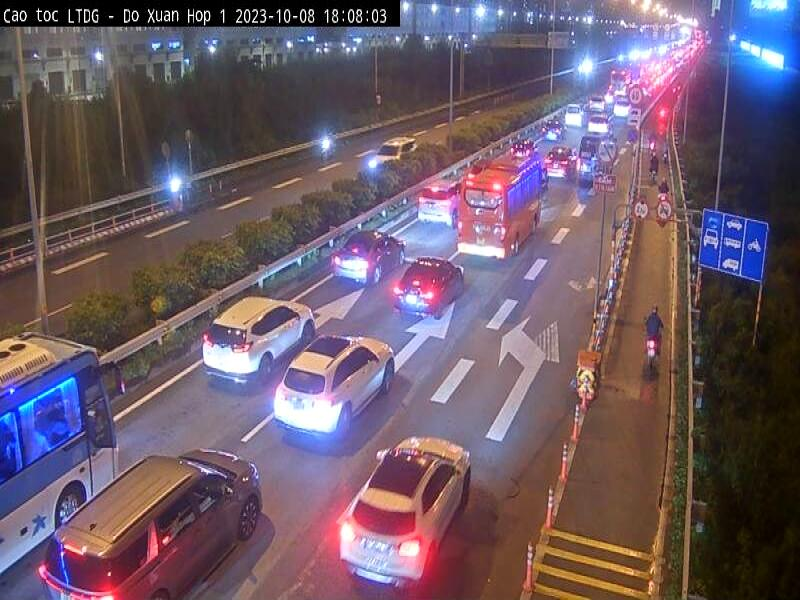bus: (0, 331, 118, 579), (459, 164, 545, 258)
car: (41, 448, 258, 600), (342, 435, 471, 600), (274, 332, 398, 438), (204, 298, 317, 387), (333, 228, 405, 291), (417, 179, 466, 232)
